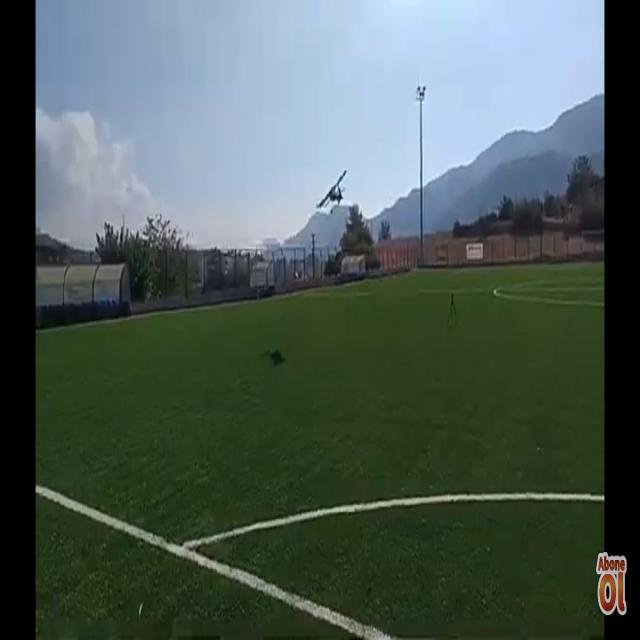iha: (309, 167, 341, 216)
